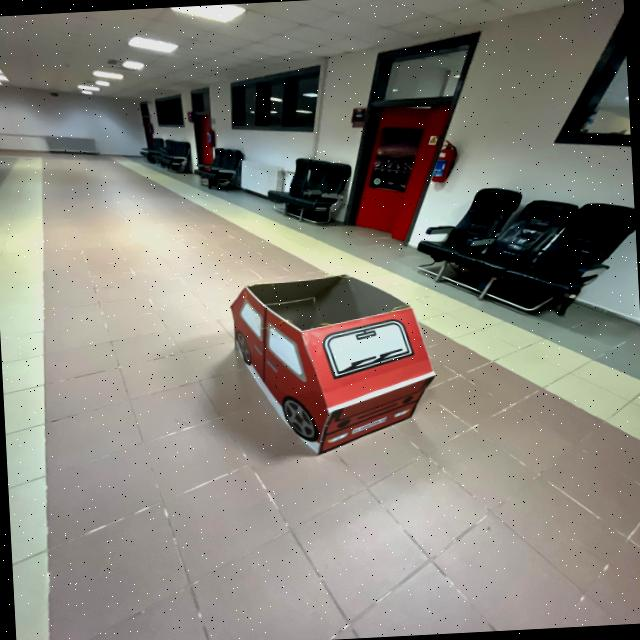red_car: (210, 264, 447, 465)
